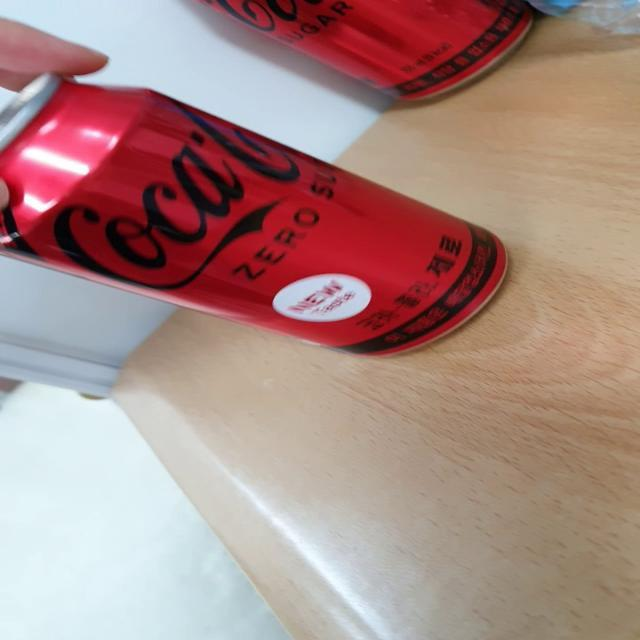coca-cola: (0, 68, 520, 395)
